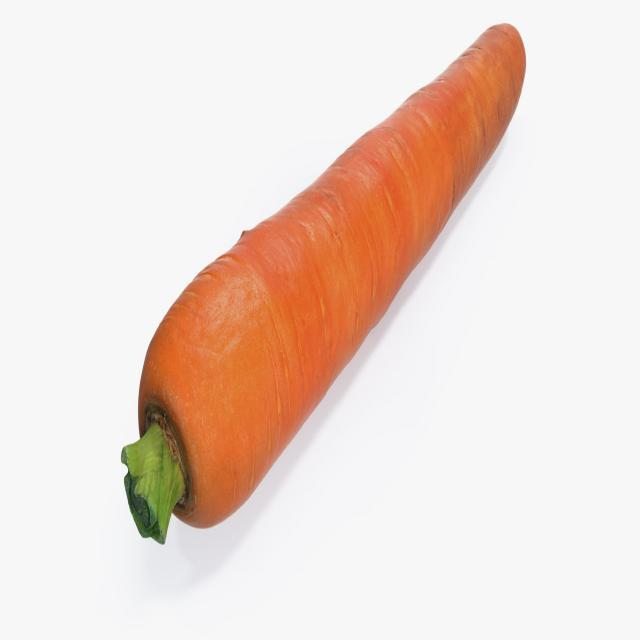carrot: (117, 13, 527, 556)
